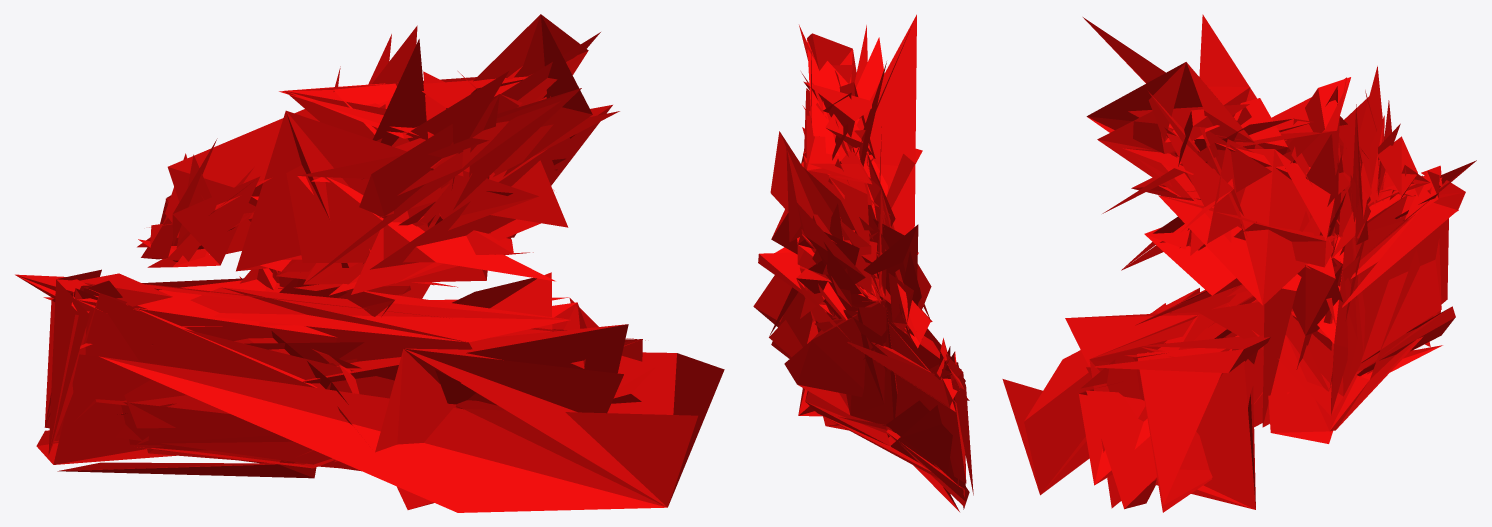
The picture shows the model from 3 angles, left to right: view 1: azimuth 30°, elevation 25°; view 2: azimuth 150°, elevation 25°; view 3: azimuth 270°, elevation 25°; orthographic projection. The views are drawn at different scales.
Visible parts, largest first — view 1: Renderer Node; view 2: Renderer Node; view 3: Renderer Node.
Part boxes in pixels (left/top/right/bottom): Renderer Node: left=15, top=14, right=724, bottom=512; Renderer Node: left=753, top=14, right=973, bottom=511; Renderer Node: left=1002, top=14, right=1476, bottom=512.
Size of the model in its own units: 0.6724 by 0.6677 by 0.6214.
Materials: 1 (1 with a texture image).
